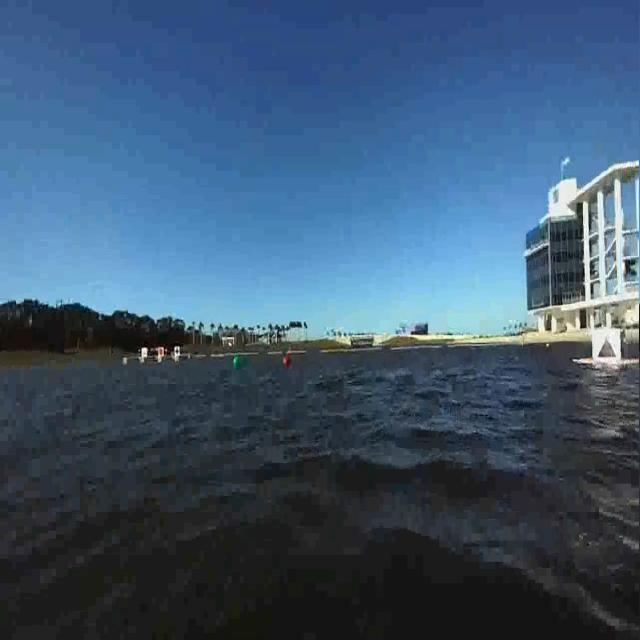green-buoy: (234, 356, 242, 368)
